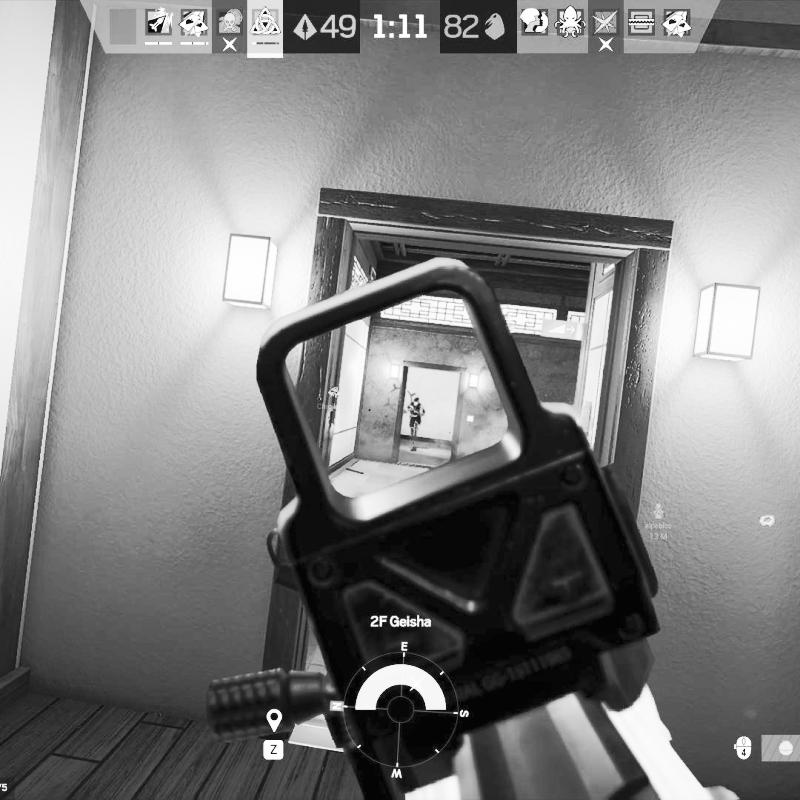Character: (407, 395, 426, 443)
Friend_label: (316, 386, 351, 410)
Head: (413, 397, 420, 406)
